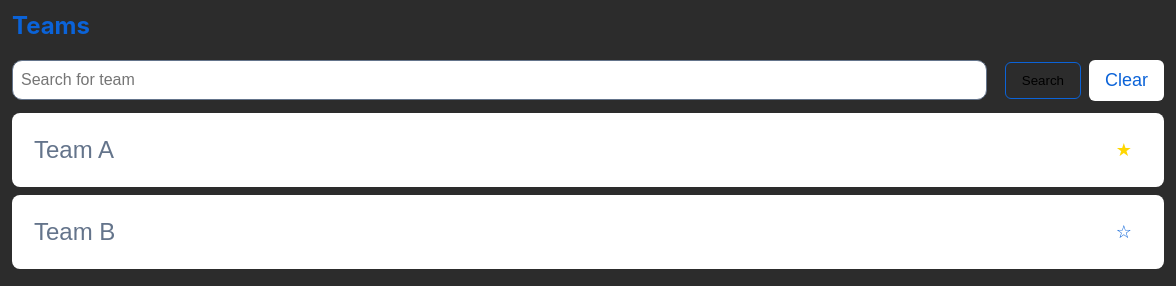
Test: TeamsList Component › shows toggling state when star is clicked
Click the button named "Add to favorites" at coordinates (1124, 232), box [1100, 211, 1148, 253]
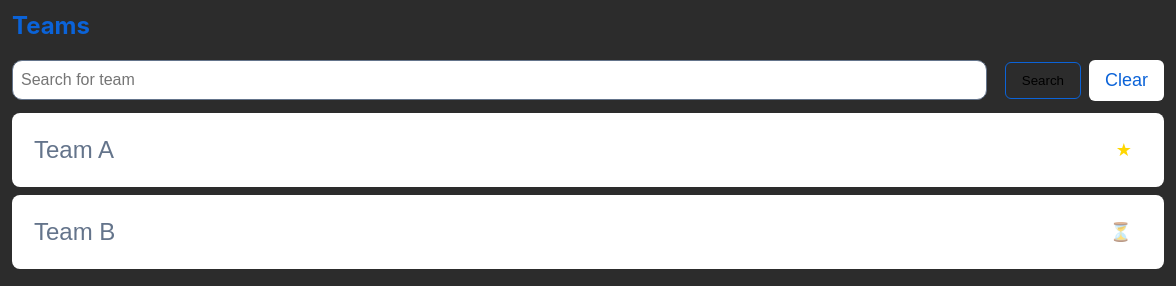
Check: the button named "Add to favorites" reads "⏳", box [1094, 211, 1148, 253]
Check: the button named "Add to favorites" is disabled, box [1094, 211, 1148, 253]
